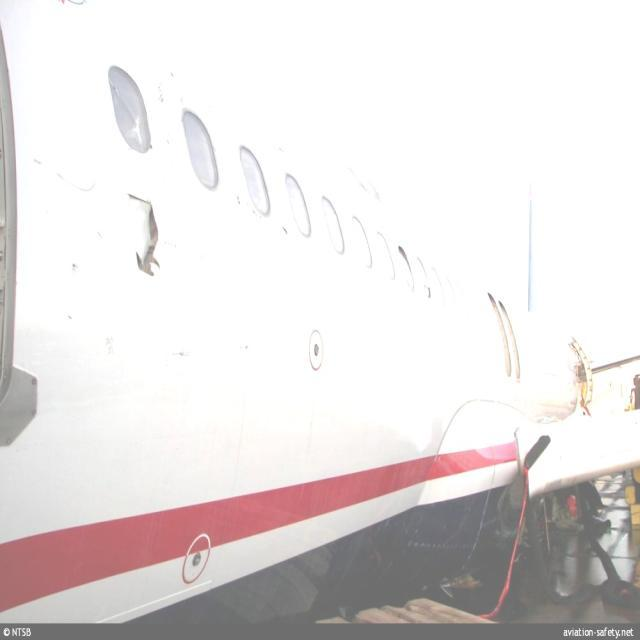crack: (123, 190, 167, 282)
